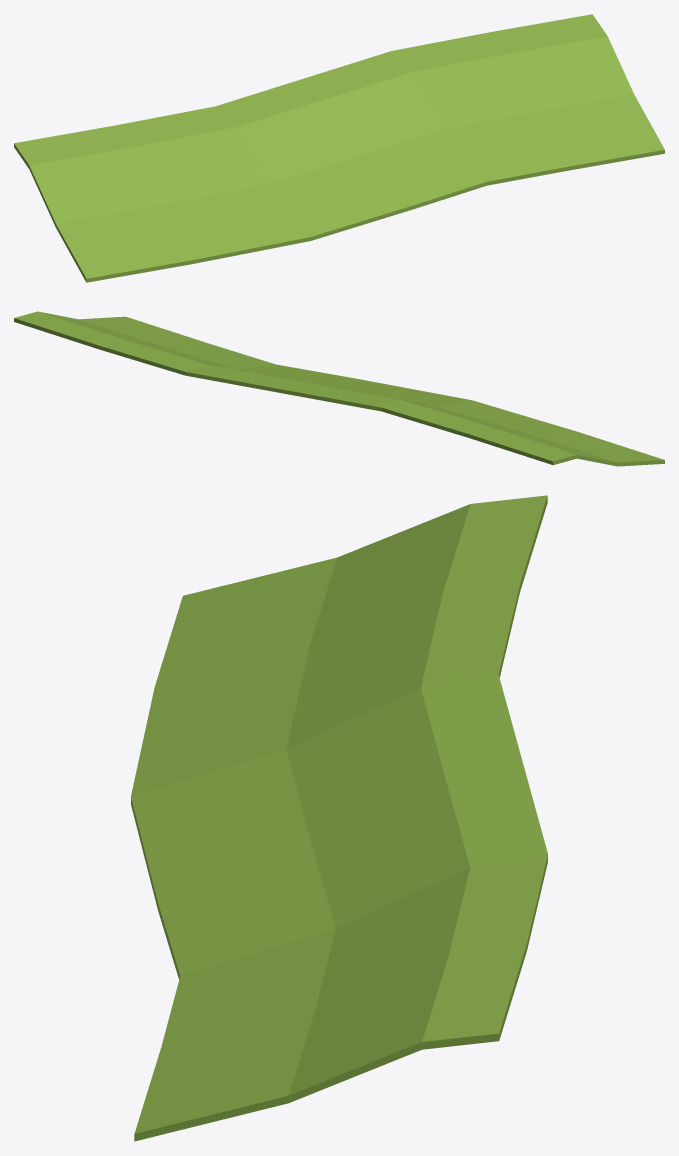
3 renders of one model, top to bottom at view 1: azimuth 30°, elevation 25°; view 2: azimuth 150°, elevation 25°; view 3: azimuth 270°, elevation 25°, orthographic. The views are drawn at different scales.
Parts seen in each view (by area): view 1: 外围草纸裙边_低起伏边.001; view 2: 外围草纸裙边_低起伏边.001; view 3: 外围草纸裙边_低起伏边.001.
Part boxes in pixels (x1,y1,x2,y2): 外围草纸裙边_低起伏边.001: [14, 14, 664, 282]; 外围草纸裙边_低起伏边.001: [14, 311, 664, 466]; 外围草纸裙边_低起伏边.001: [131, 495, 547, 1141].
Size of the model in its own units: 1.87 by 0.2 by 0.5898.
